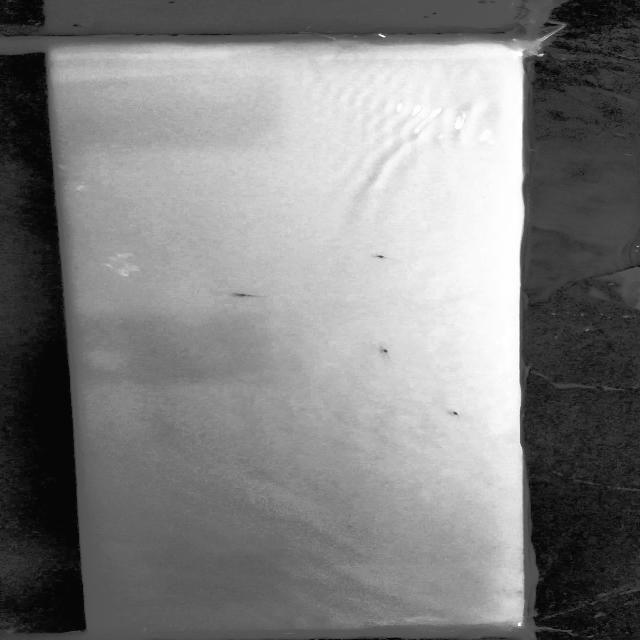shrimp: (372, 253, 398, 262), (229, 291, 267, 297), (446, 408, 464, 417), (376, 346, 392, 355)
